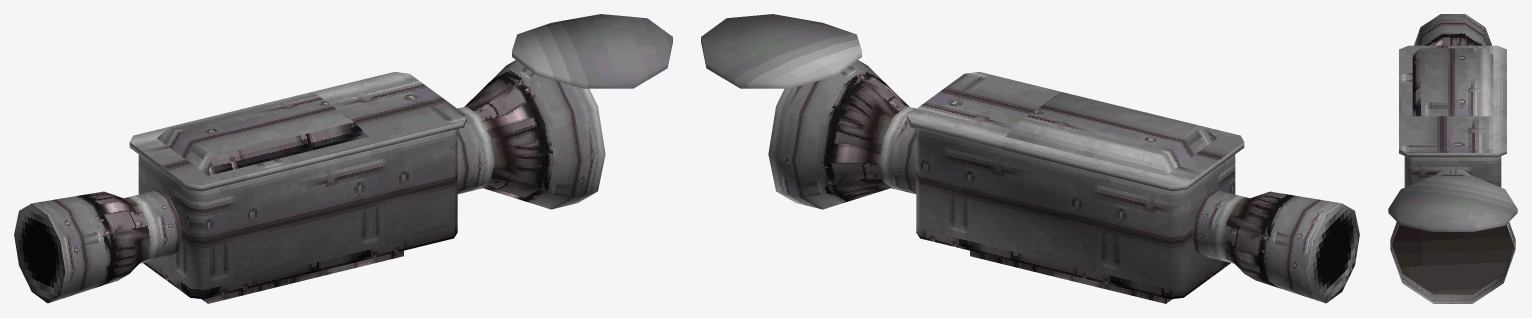
Rendered from mcmillanM87__N002_thermal_scope_v0100.glb.
The picture shows the model from 3 angles, left to right: view 1: azimuth 30°, elevation 25°; view 2: azimuth 150°, elevation 25°; view 3: azimuth 270°, elevation 25°; orthographic projection. The views are drawn at different scales.
Visible parts, largest first — view 1: N002_thermal_scope_v0100; view 2: N002_thermal_scope_v0100; view 3: N002_thermal_scope_v0100.
Part boxes in pixels (left/top/right/bottom): N002_thermal_scope_v0100: left=14, top=14, right=672, bottom=303; N002_thermal_scope_v0100: left=701, top=14, right=1359, bottom=303; N002_thermal_scope_v0100: left=1388, top=14, right=1517, bottom=303.
Bounding box in the file's own units: 0.435 × 0.1063 × 0.1.
Materials: 2 (2 with a texture image).
